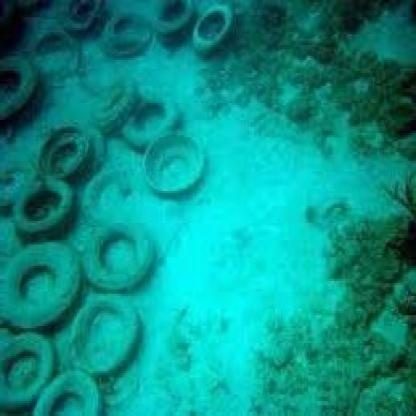tire: (10, 236, 92, 354), (80, 210, 169, 300), (69, 291, 149, 384), (133, 115, 212, 188), (2, 330, 66, 403), (42, 358, 117, 416), (114, 90, 188, 146), (24, 176, 82, 246), (188, 2, 241, 71), (1, 41, 42, 126), (37, 133, 98, 182), (152, 2, 198, 43)
